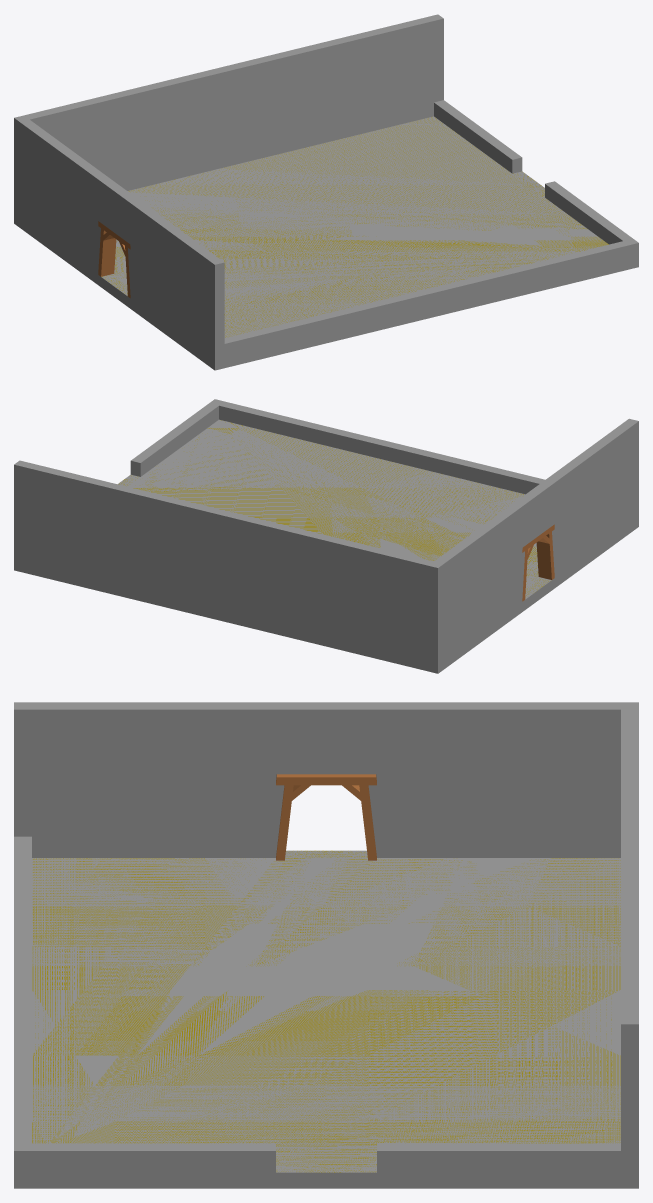
Rendered from salaGrandeUnaPuerta.fbx.
3 views of the same model, one above another, from view 1: azimuth 30°, elevation 25°; view 2: azimuth 150°, elevation 25°; view 3: azimuth 270°, elevation 25° (orthographic). The views are drawn at different scales.
Visible parts, largest first — view 1: group_1, group_2, group_0; view 2: group_1, group_2, group_0; view 3: group_2, group_1, group_0.
Part boxes in pixels (bbox=[...]): group_1: bbox=[14, 14, 638, 370]; group_2: bbox=[101, 116, 608, 338]; group_0: bbox=[98, 221, 130, 298]; group_1: bbox=[14, 399, 638, 673]; group_2: bbox=[118, 419, 551, 599]; group_0: bbox=[522, 524, 554, 601]; group_2: bbox=[32, 850, 620, 1172]; group_1: bbox=[14, 702, 638, 1188]; group_0: bbox=[276, 774, 376, 860].
Size of the model in its own units: 2560 by 610 by 2100.
